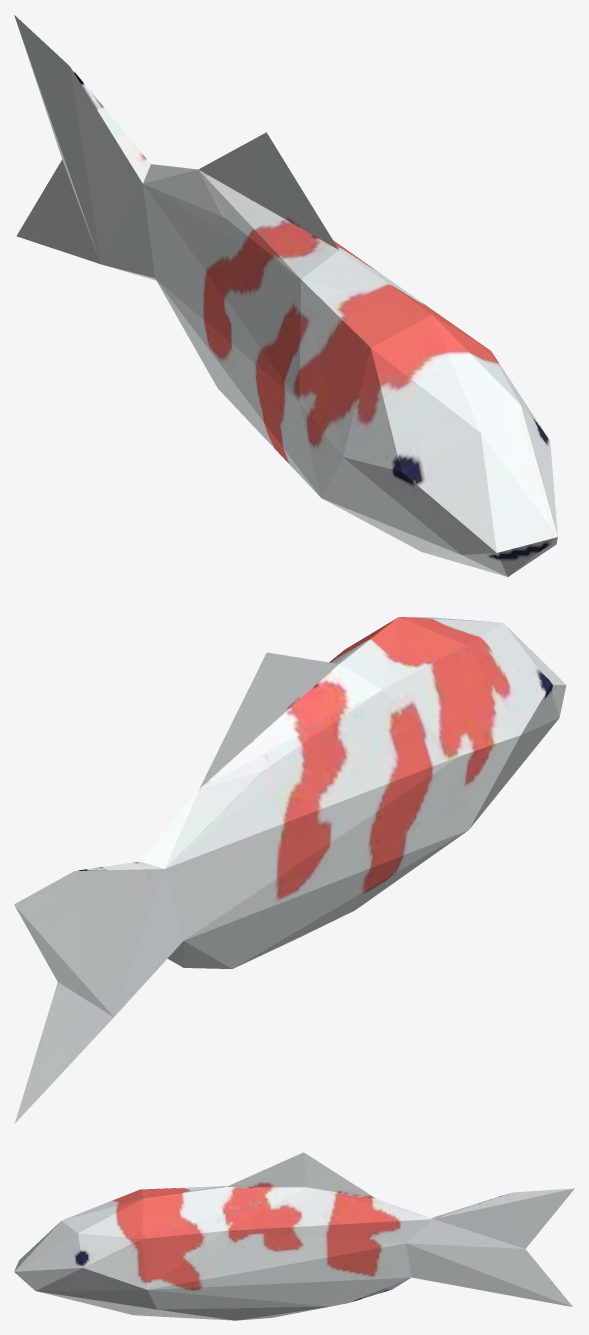
The model's file is koi_fish.glb.
3 renders of one model, top to bottom at view 1: azimuth 30°, elevation 25°; view 2: azimuth 150°, elevation 25°; view 3: azimuth 270°, elevation 25°, orthographic. The views are drawn at different scales.
Visible parts, largest first — view 1: Koi.002_Eyes_0; view 2: Koi.002_Eyes_0; view 3: Koi.002_Eyes_0.
Part boxes in pixels (bbox=[...]): Koi.002_Eyes_0: bbox=[14, 15, 557, 588]; Koi.002_Eyes_0: bbox=[14, 617, 566, 1122]; Koi.002_Eyes_0: bbox=[14, 1152, 574, 1320].
Size of the model in its own units: 1.11 by 1.85 by 5.66.
1 material, 1 textured.
